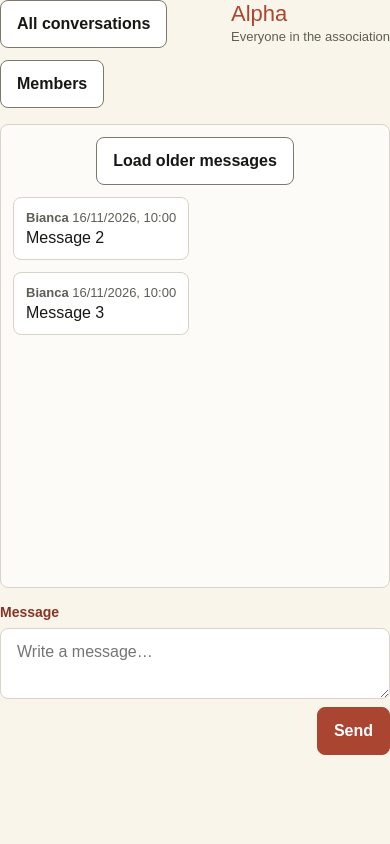
Test: MessageThread polling and paging › loads older messages before the oldest shown
Click the button "Load older messages" at (195, 161), box [96,137,294,185]
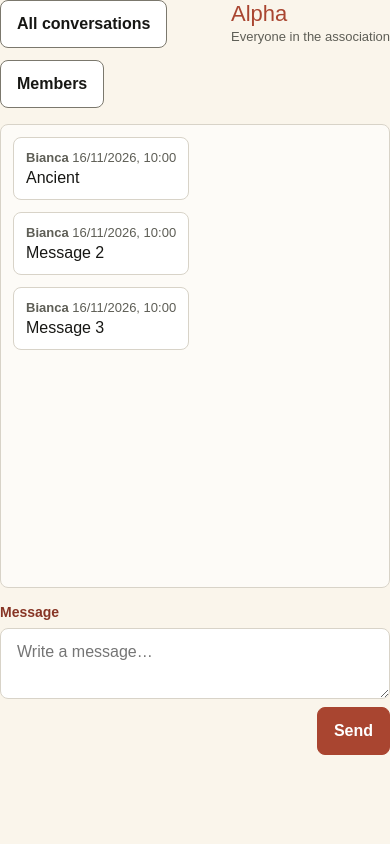
expect the text "Ancient" is shown: met, box [26,169,79,186]
expect the button "Load older messages" is gone: met
